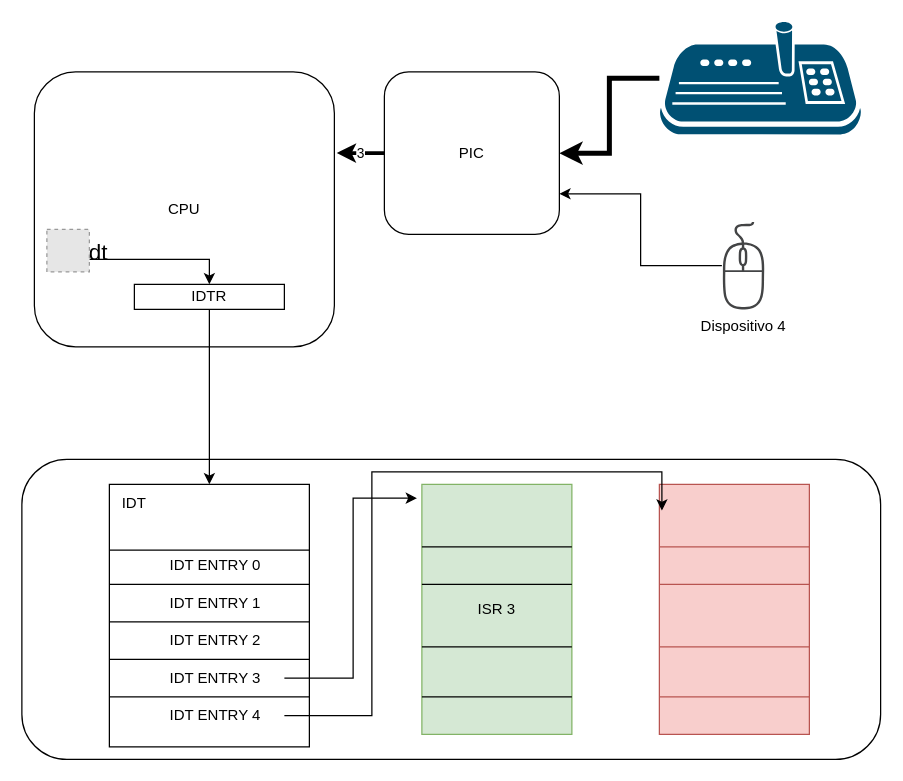
This 903x781 diagram has some shape labels left out. Grey dashed boxes stand in for pictures. Here are the shapes that lost their labels. From the top down, the box of each, then its label:
(659, 21, 861, 134): Dispositivo 3
(658, 483, 809, 734): ISR 4
